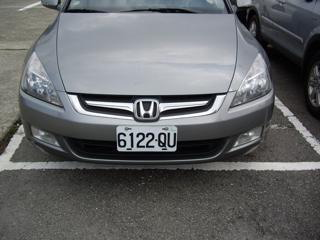plate: (115, 122, 178, 153)
